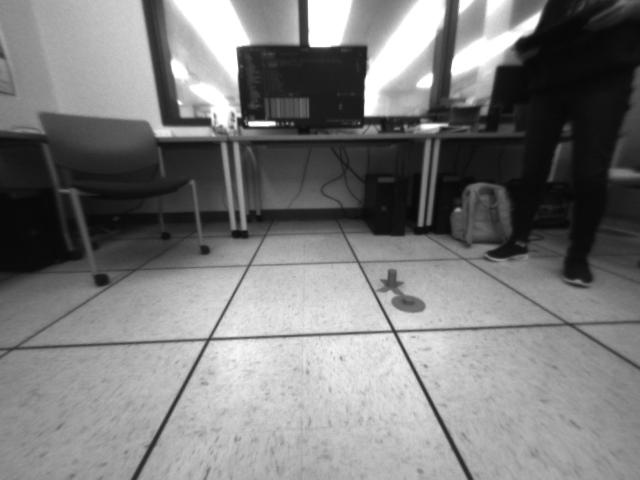X: (376, 267, 405, 296)
